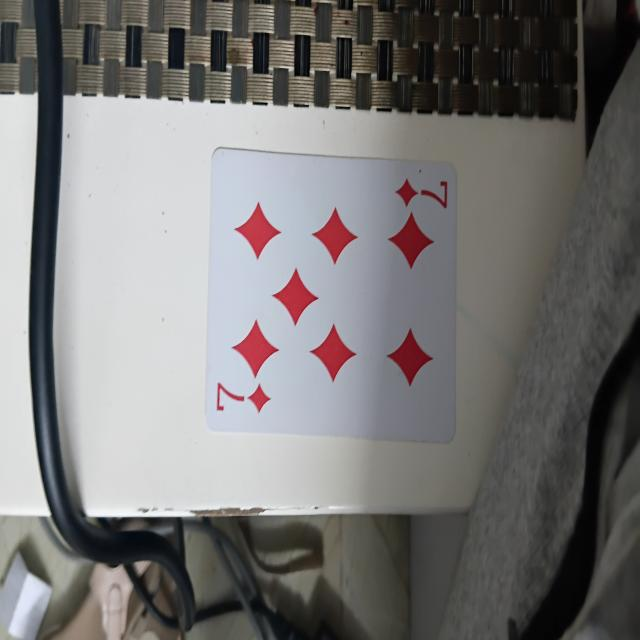7D: (210, 149, 456, 445)
